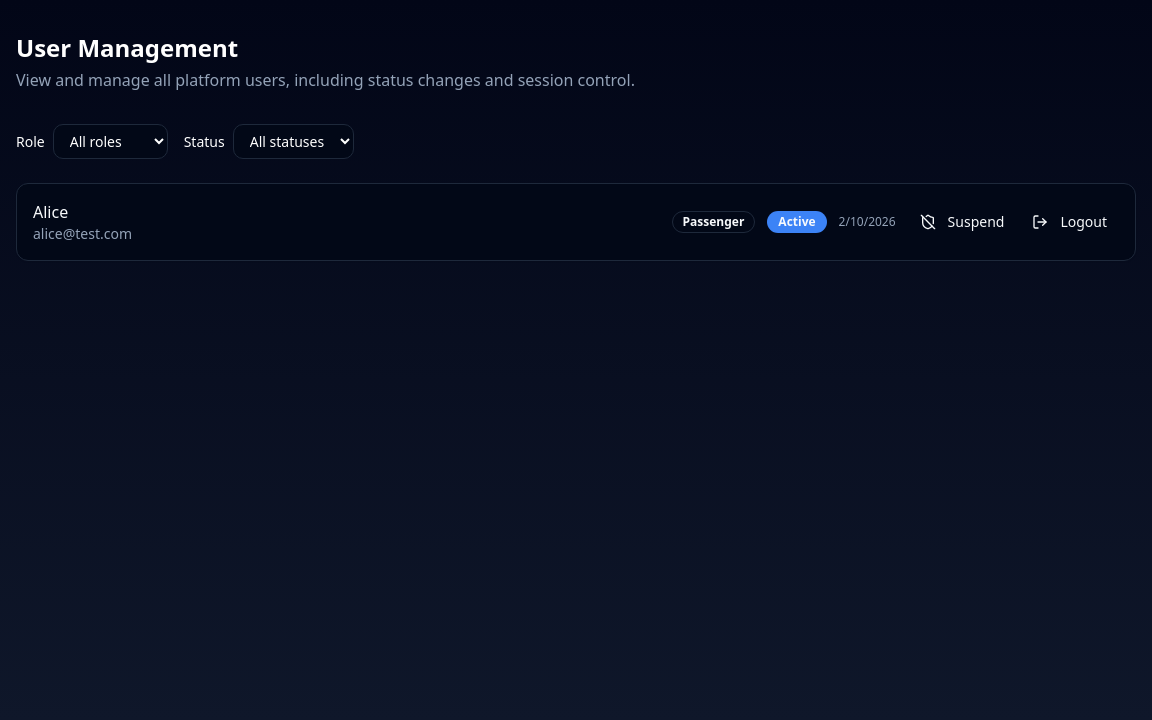
Test case: AdminUsersPage › actions › opens confirmation dialog on suspend click
Click the button with aria-label "Suspend Alice".
click(962, 222)  # box x1=908 y1=204 x2=1016 y2=240
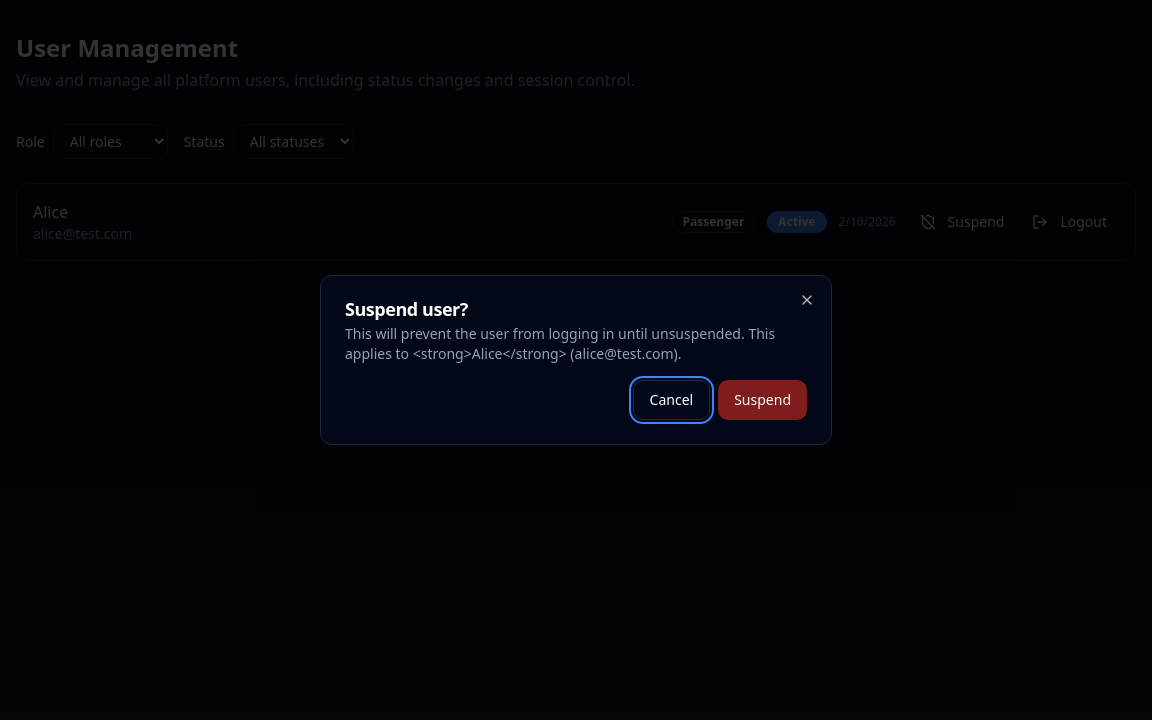
Result: the heading "Suspend user?" is shown at x1=345 y1=297 x2=468 y2=321
Result: the text "alice@test.com" is shown at x1=345 y1=324 x2=775 y2=363
